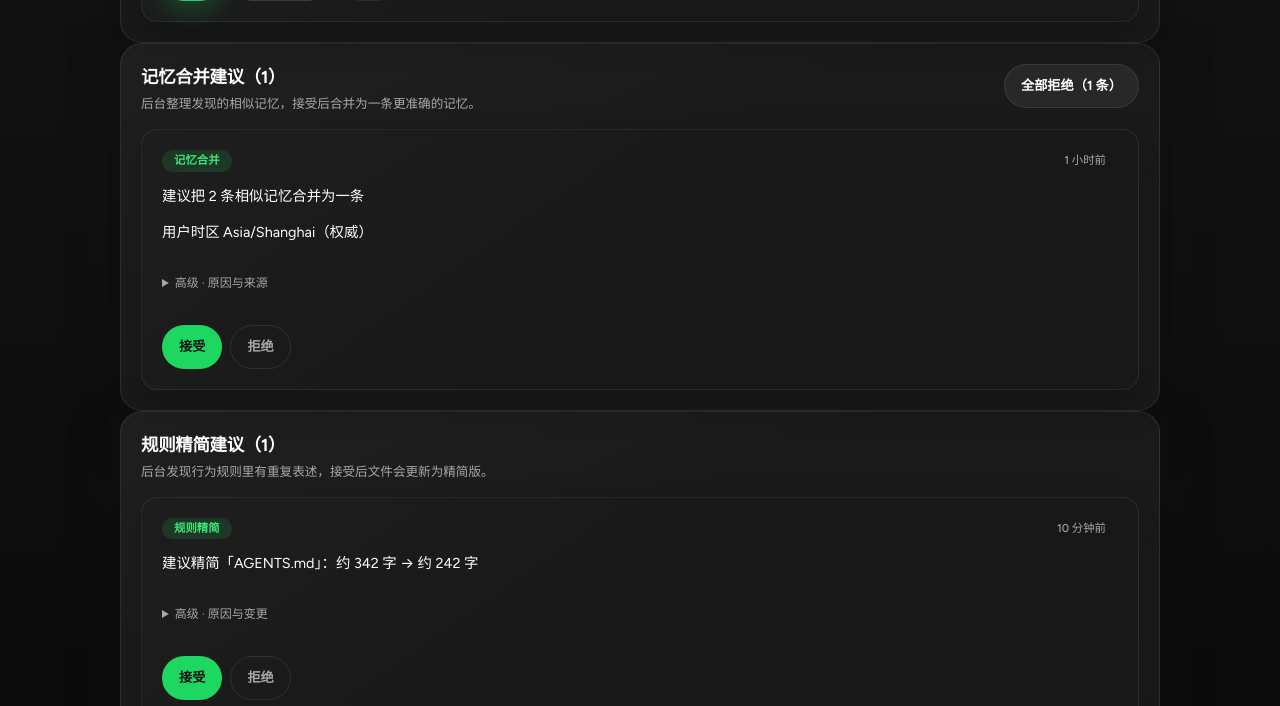
Test: ApprovalCenterPage › consolidation accept 成功后卡片移除 + 成功 toast
(page scrolled)
Expected: the text "建议把 2 条相似记忆合并为一条" is shown, [162,187,364,205]
Note: ProposalCard 的接受按钮：定位到记忆合并卡内
Click the button "接受" below "高级 · 原因与来源" at (192, 346), box [162,324,222,368]
(page scrolled)
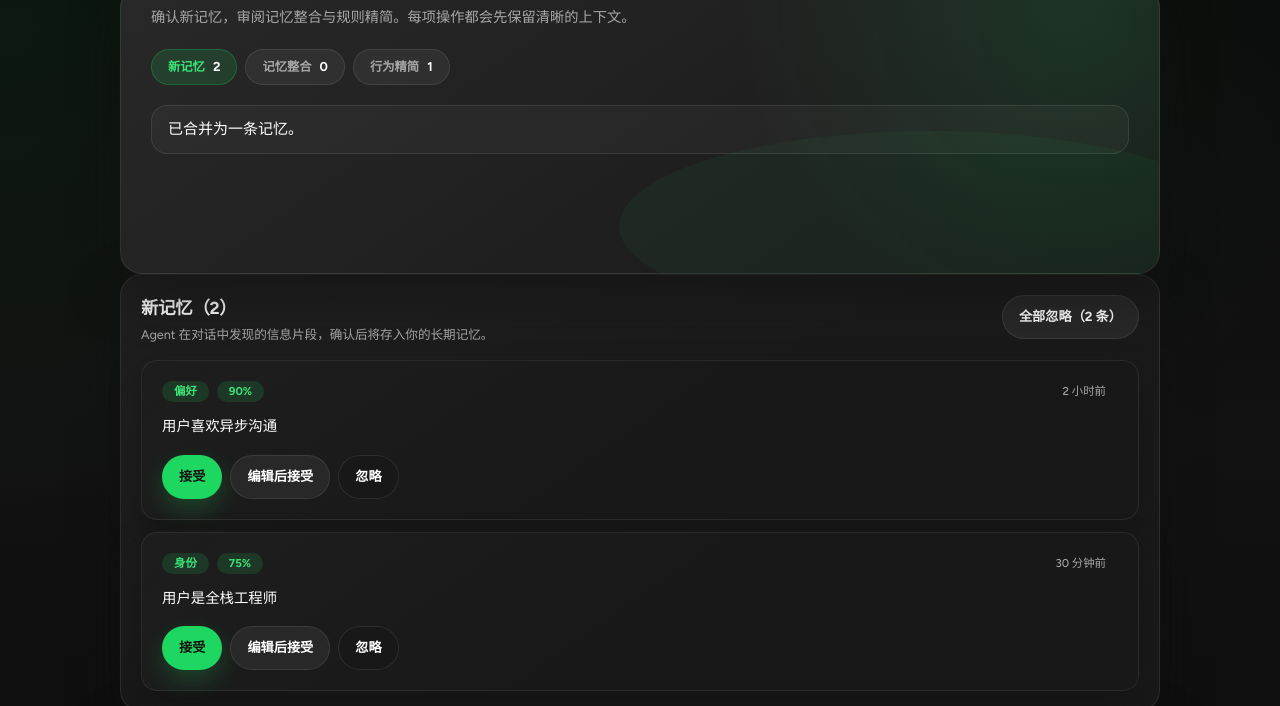
Result: the text "建议把 2 条相似记忆合并为一条" is gone
Result: the text "已合并为一条记忆。" is shown at [168,118,303,140]
